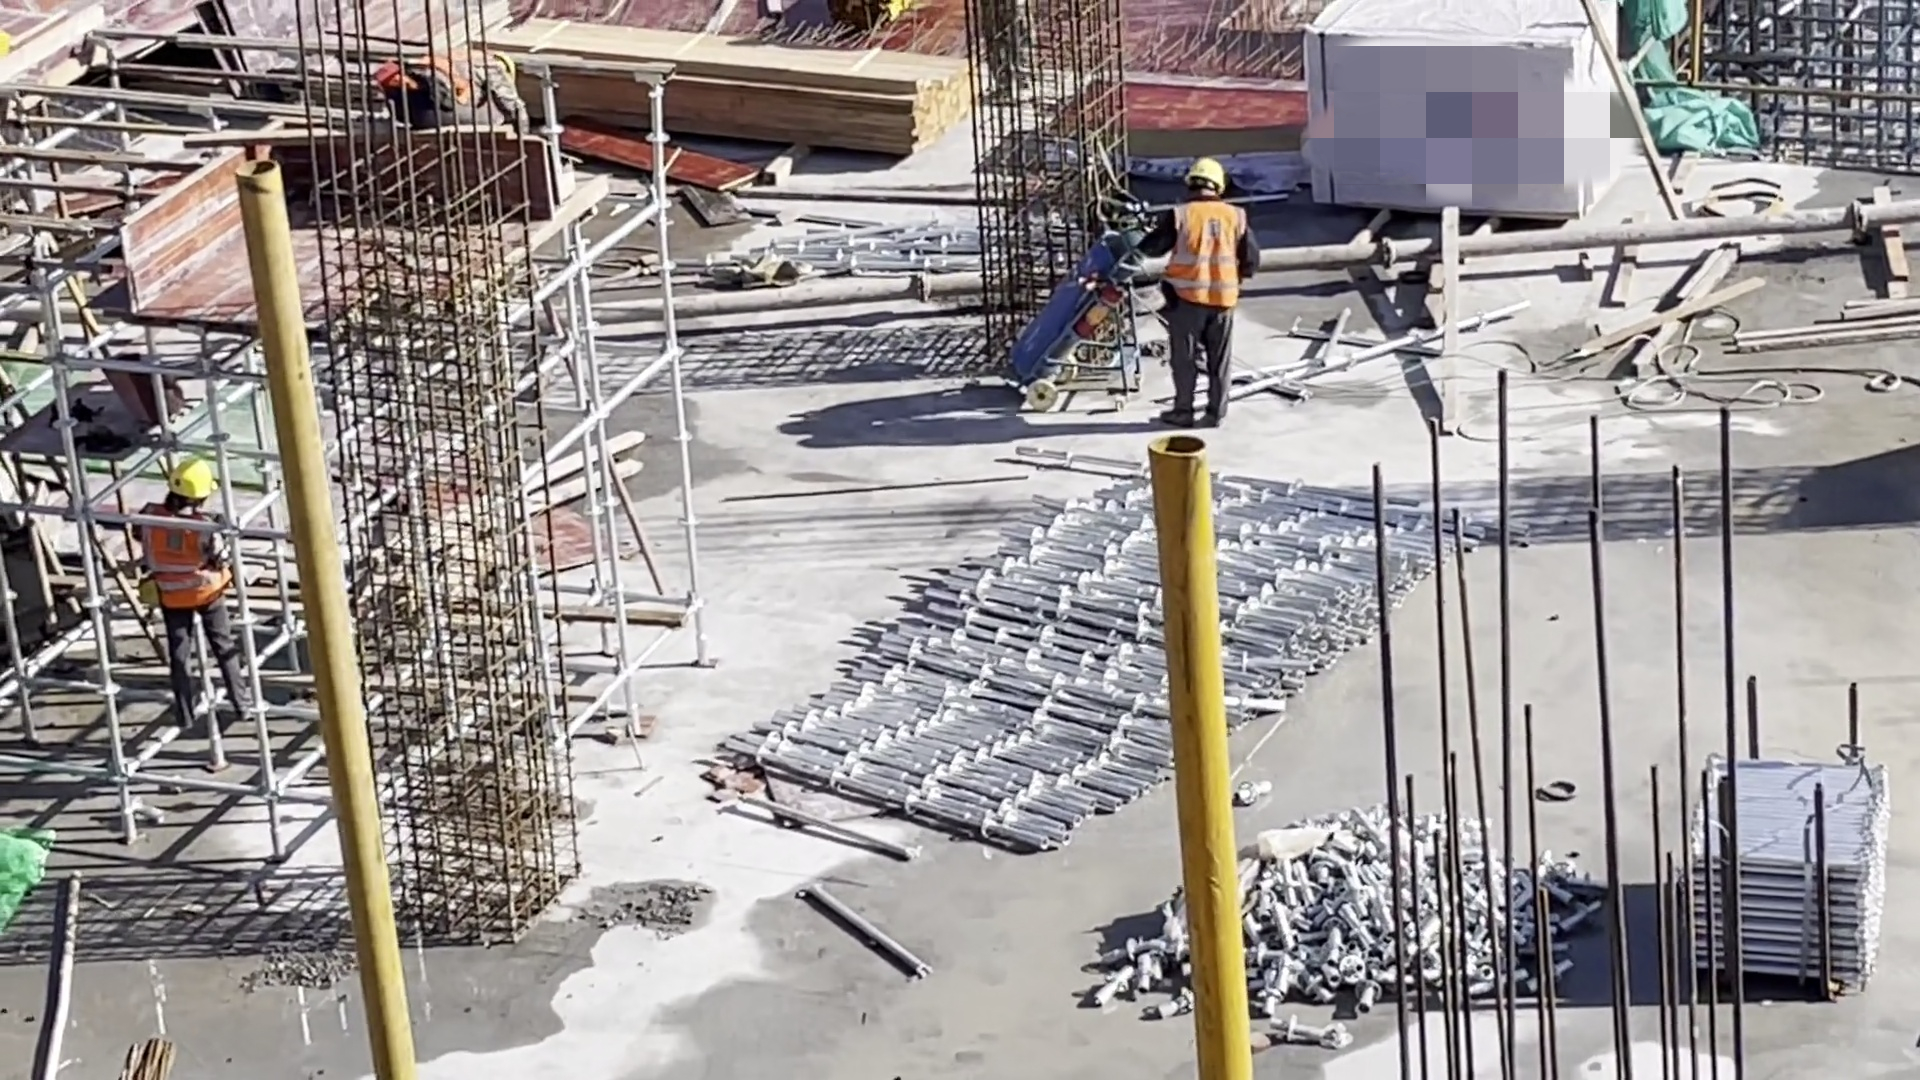helmet: (167, 458, 218, 498), (1187, 156, 1225, 195)
person: (141, 454, 254, 715), (1167, 157, 1240, 422), (381, 46, 529, 130)
vest: (143, 505, 233, 605), (1170, 199, 1241, 306), (383, 51, 484, 101)
